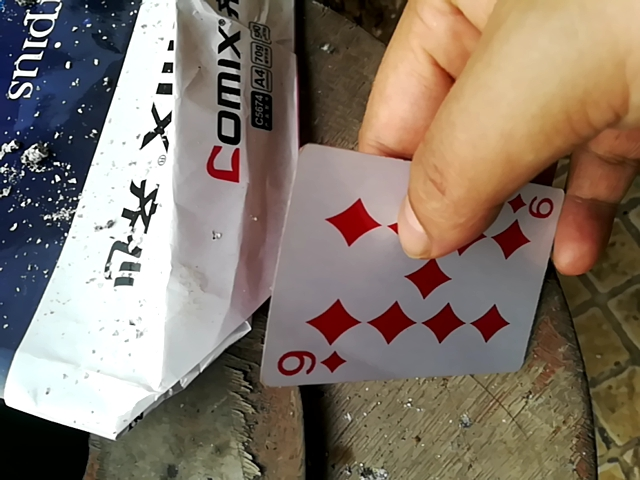fk 9: (255, 142, 559, 381)
